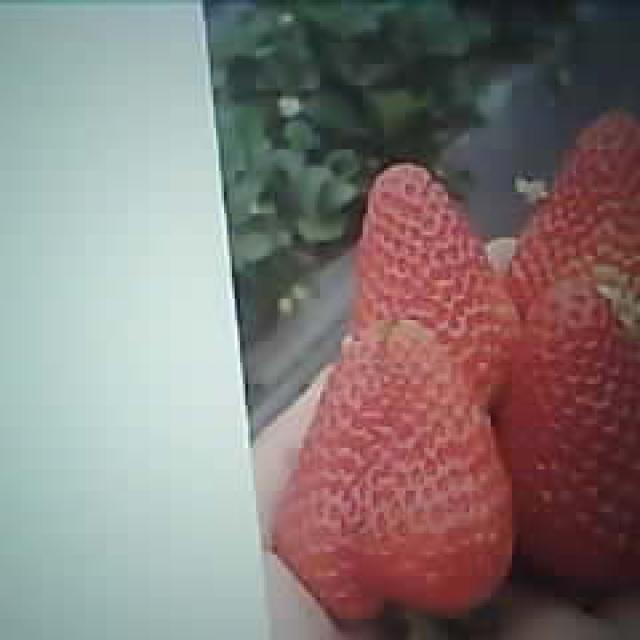ripe: (276, 325, 518, 621), (501, 285, 640, 587)
